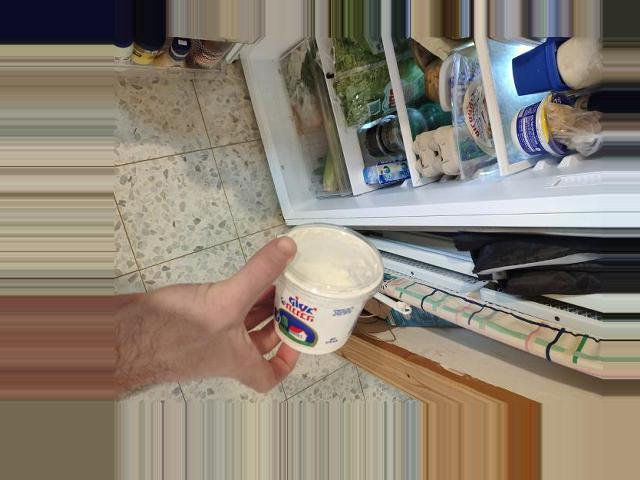cotage: (273, 240, 393, 340)
